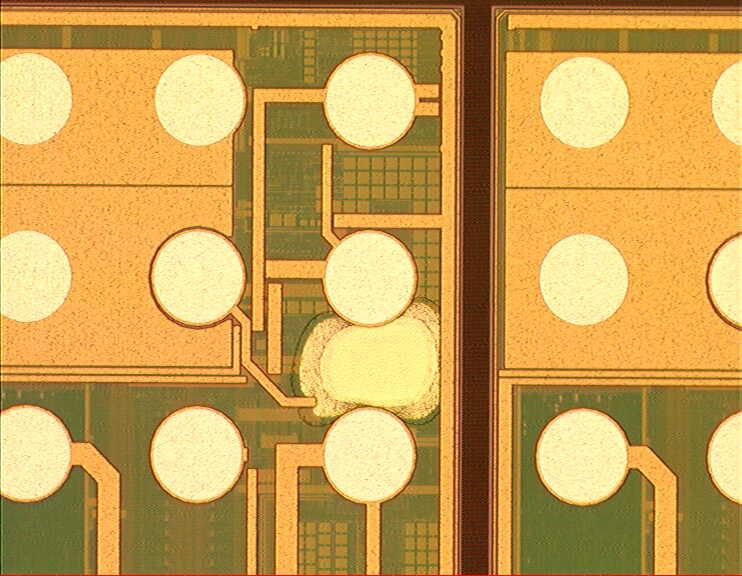BLOCK ETCH: (288, 299, 467, 429)
